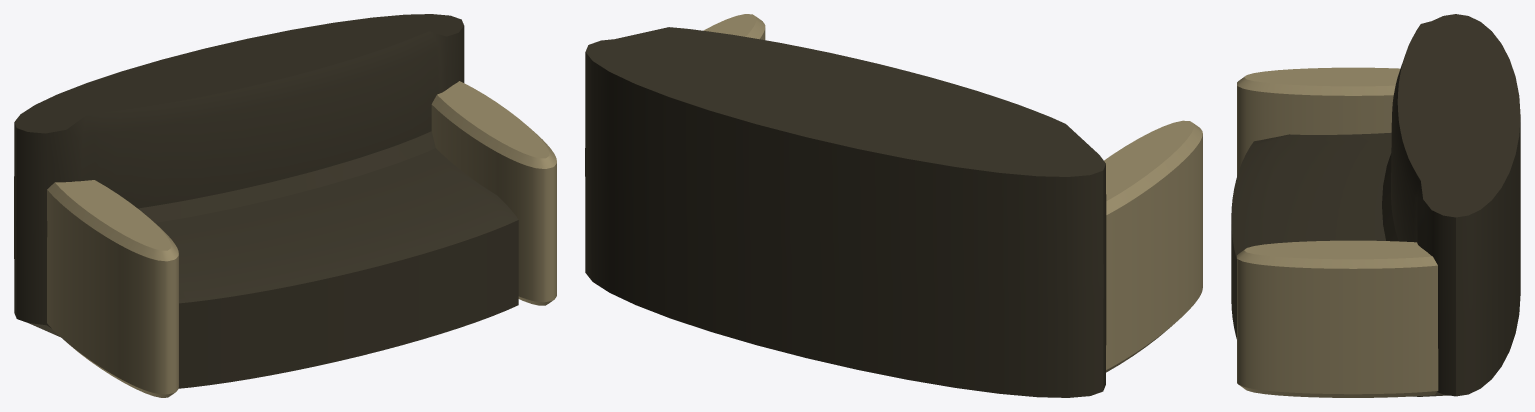
3 renders of one model, left to right at view 1: azimuth 30°, elevation 25°; view 2: azimuth 150°, elevation 25°; view 3: azimuth 270°, elevation 25°, orthographic. The views are drawn at different scales.
Parts seen in each view (by area): view 1: Cylinder.002, Cylinder.001, Cylinder; view 2: Cylinder.002, Cylinder.001, Cylinder; view 3: Cylinder.002, Cylinder, Cylinder.001.
Part boxes in pixels (<box>): Cylinder.002: <box>14,14,518,388</box>; Cylinder.001: <box>47,180,178,397</box>; Cylinder: <box>431,81,556,305</box>; Cylinder.002: <box>585,27,1106,397</box>; Cylinder.001: <box>1104,120,1202,372</box>; Cylinder: <box>703,14,765,39</box>; Cylinder.002: <box>1231,14,1520,396</box>; Cylinder: <box>1237,240,1438,397</box>; Cylinder.001: <box>1237,67,1400,176</box>.
Size of the model in its own units: 2.5 by 1.2 by 1.5.
